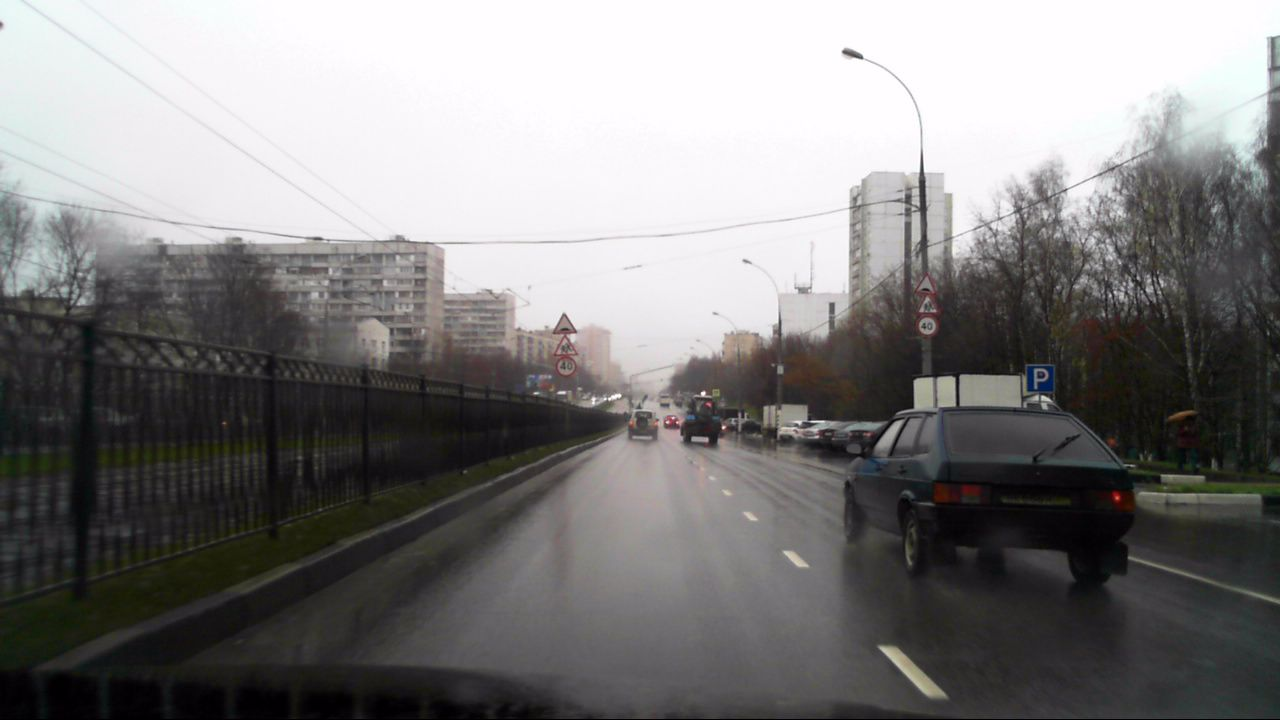speed_warning_40: (556, 357, 576, 376)
